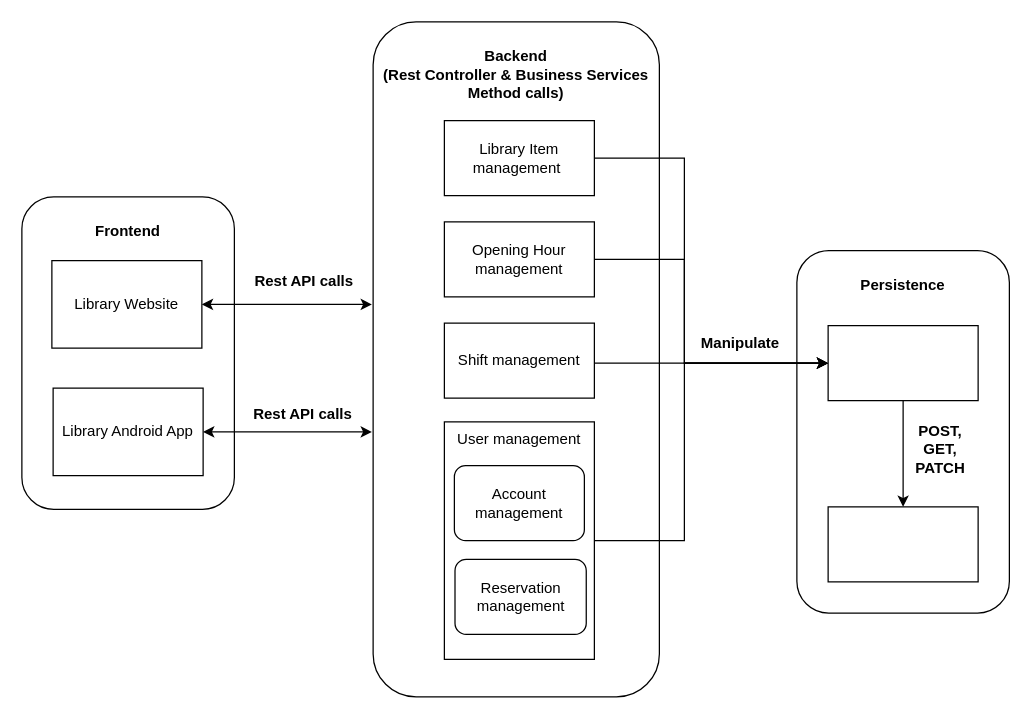
Image size: 1031x719. Some labels were removed from this diagram. Here are the shapes that lost their labels. From the top down, the centre of each, then its label:
At pixel 902 362: "Business entries".
At pixel 902 544: "Heroku Database".
